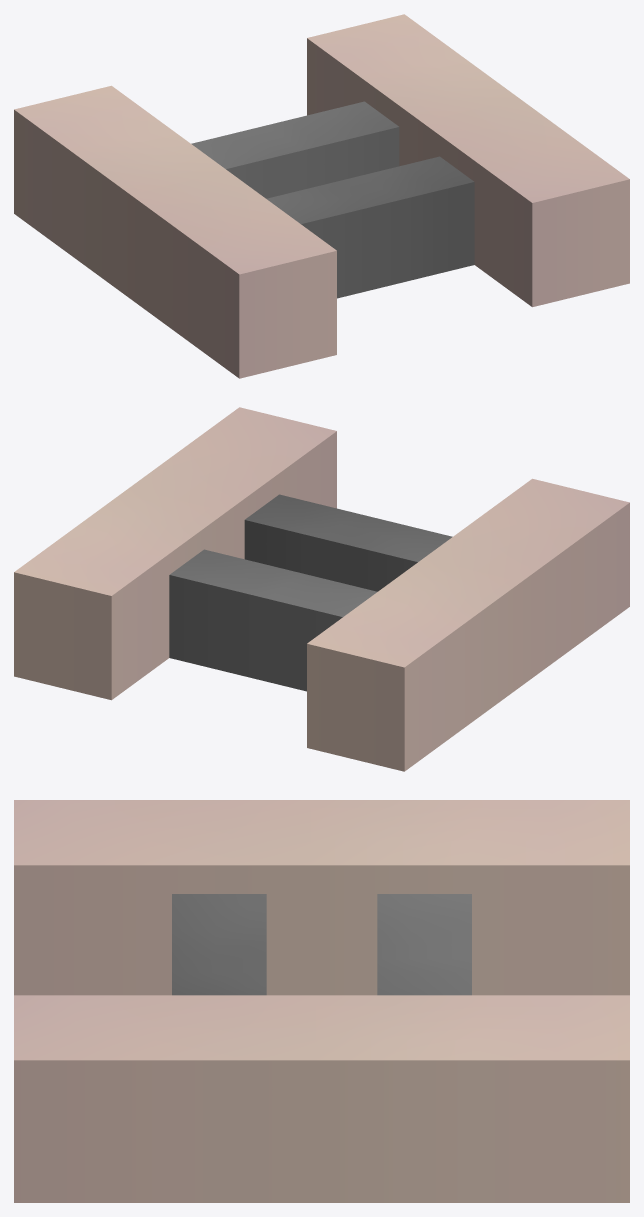
File: Train Paht_1.fbx
3 views of the same model, one above another, from view 1: azimuth 30°, elevation 25°; view 2: azimuth 150°, elevation 25°; view 3: azimuth 270°, elevation 25° (orthographic). The views are drawn at different scales.
Parts seen in each view (by area): view 1: Train Paht_1; view 2: Train Paht_1; view 3: Train Paht_1.
Part boxes in pixels (bbox=[...]): Train Paht_1: bbox=[14, 14, 629, 378]; Train Paht_1: bbox=[14, 407, 629, 771]; Train Paht_1: bbox=[14, 800, 629, 1202].
Bounding box in the file's own units: 245 × 62.6 × 245.
Materials: 1 (1 with a texture image).
